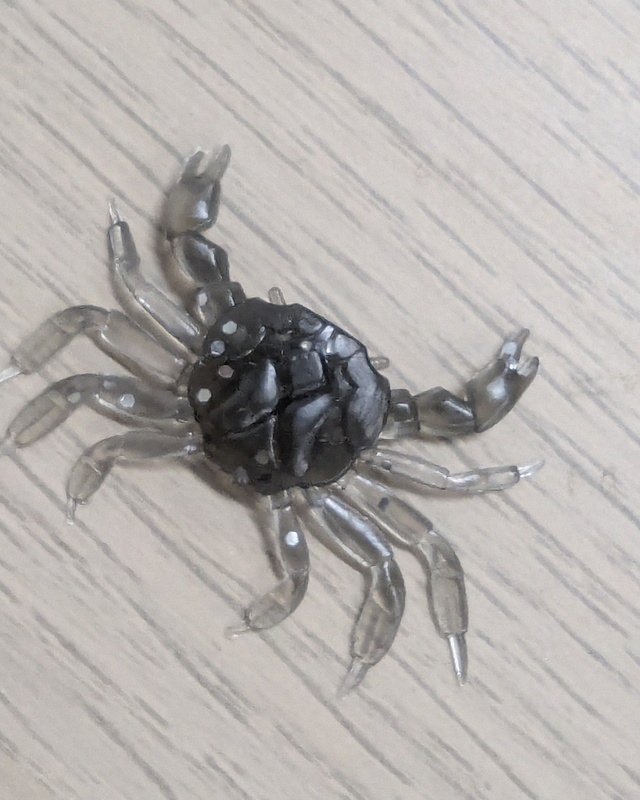crab1: (2, 143, 550, 696)
